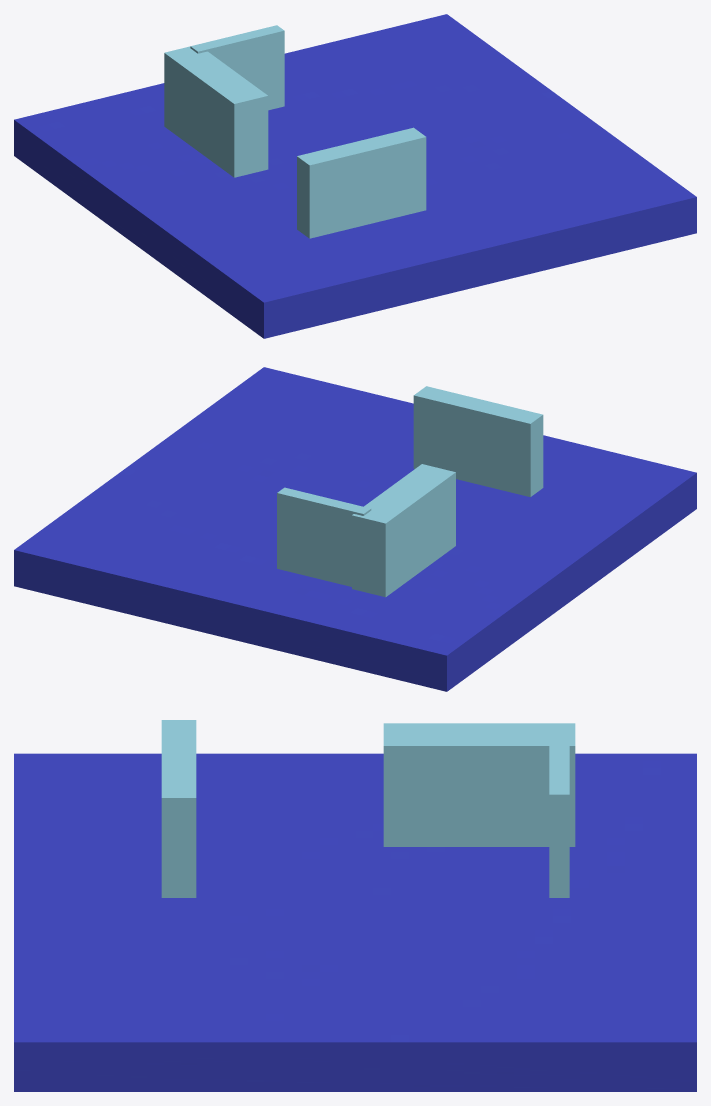
The model's file is debug.fbx.
3 views of the same model, one above another, from view 1: azimuth 30°, elevation 25°; view 2: azimuth 150°, elevation 25°; view 3: azimuth 270°, elevation 25° (orthographic). The views are drawn at different scales.
Parts seen in each view (by area): view 1: Box001, Box004, Box003, Box002; view 2: Box001, Box004, Box003, Box002; view 3: Box001, Box003, Box004, Box002.
Boxes of the visible parts, left/top/right/bottom form: Box001: left=14, top=14, right=696, bottom=338; Box004: left=297, top=127, right=426, bottom=238; Box003: left=164, top=46, right=268, bottom=177; Box002: left=190, top=25, right=284, bottom=110; Box001: left=14, top=367, right=696, bottom=691; Box004: left=413, top=386, right=543, bottom=497; Box003: left=352, top=464, right=455, bottom=597; Box002: left=277, top=487, right=371, bottom=586; Box001: left=14, top=753, right=696, bottom=1091; Box003: left=383, top=723, right=575, bottom=846; Box004: left=161, top=720, right=196, bottom=897; Box002: left=549, top=736, right=569, bottom=897.
Bounding box in the file's own units: 1000 × 247 × 1000.
